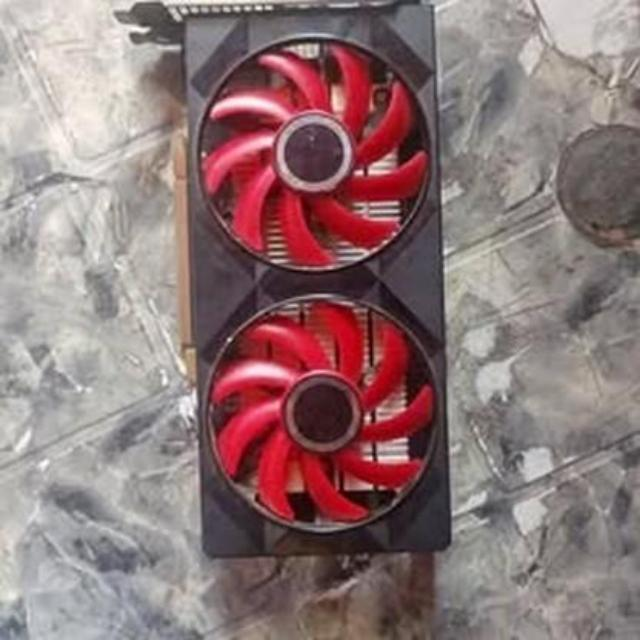GPU: (168, 2, 464, 576)
